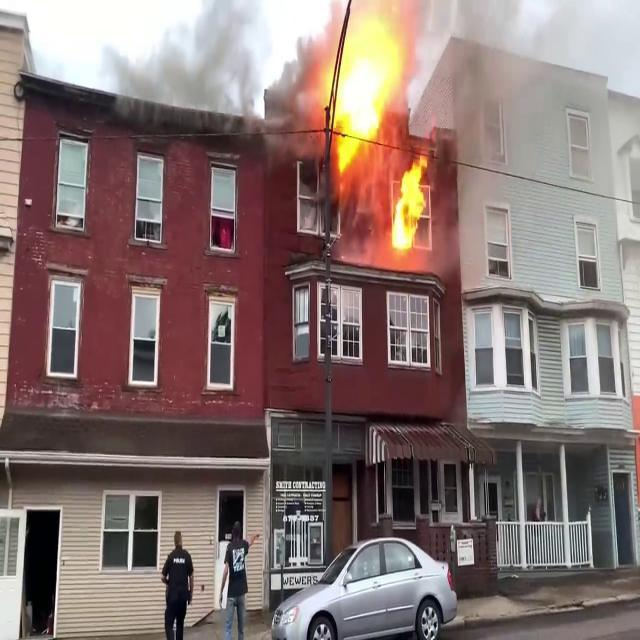Fire: (316, 0, 412, 169), (384, 148, 434, 262)
Smoke: (104, 0, 276, 124)
